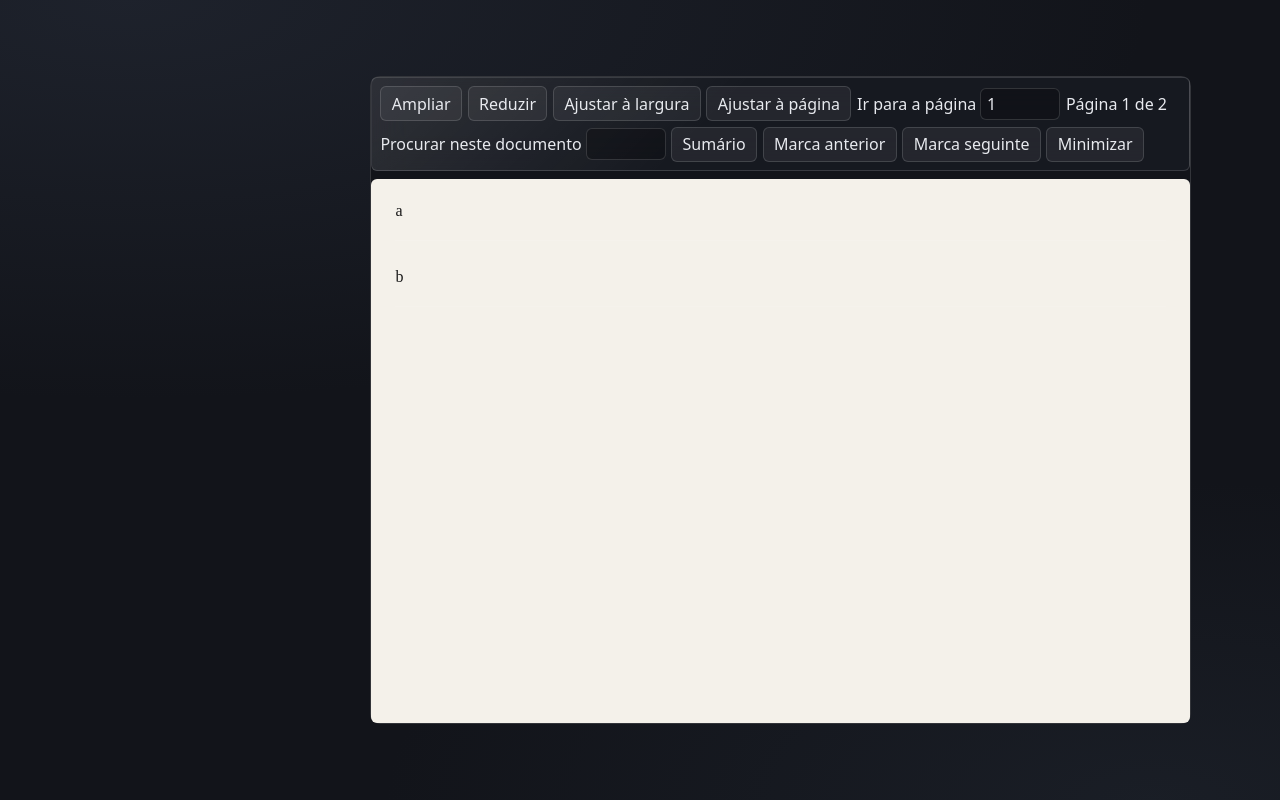
Test case: REG-LEI-005 › sumário navega para a secção
The width and height of the screenshot is (1280, 800).
Check: the dialog is shown, box [370,76,1191,724]
Click the button "Sumário" at (714, 144), box [671,127,757,162]
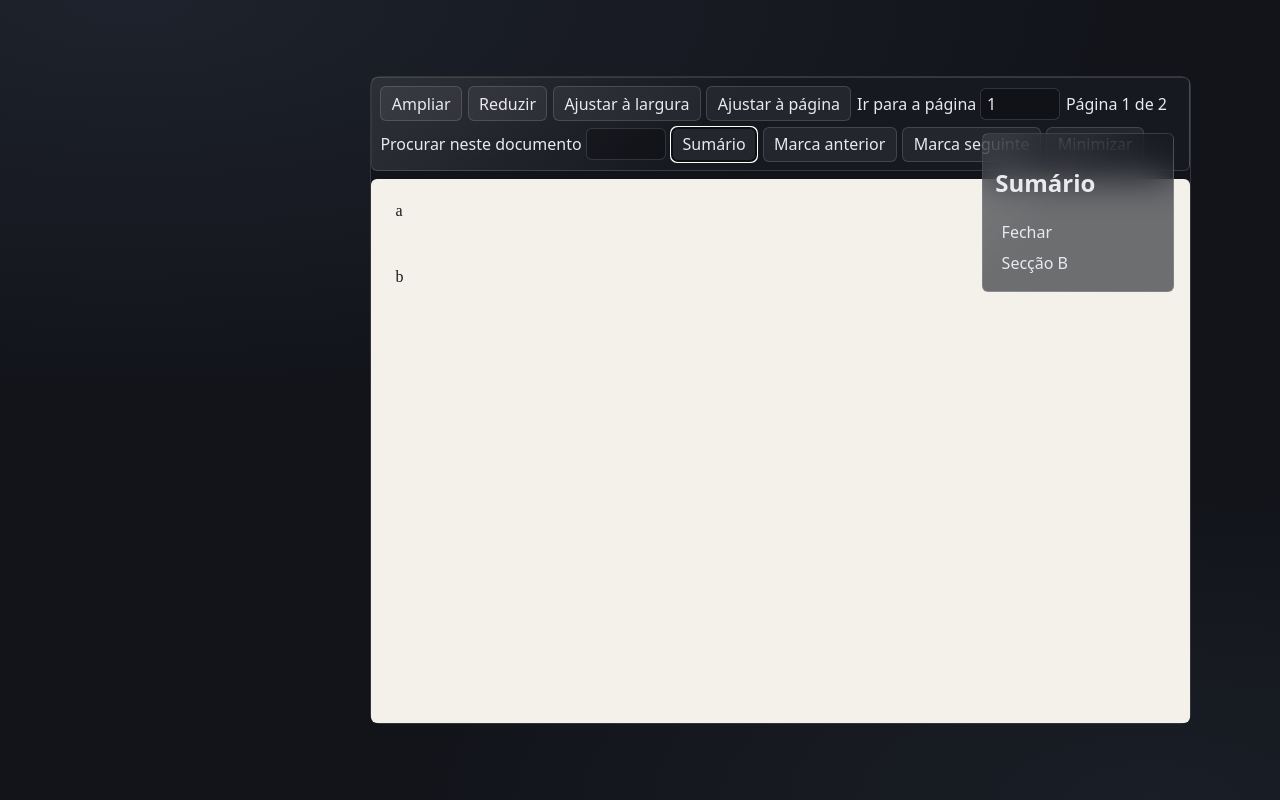
Click the button "Secção B" at (1078, 263), box [995,246,1161,279]
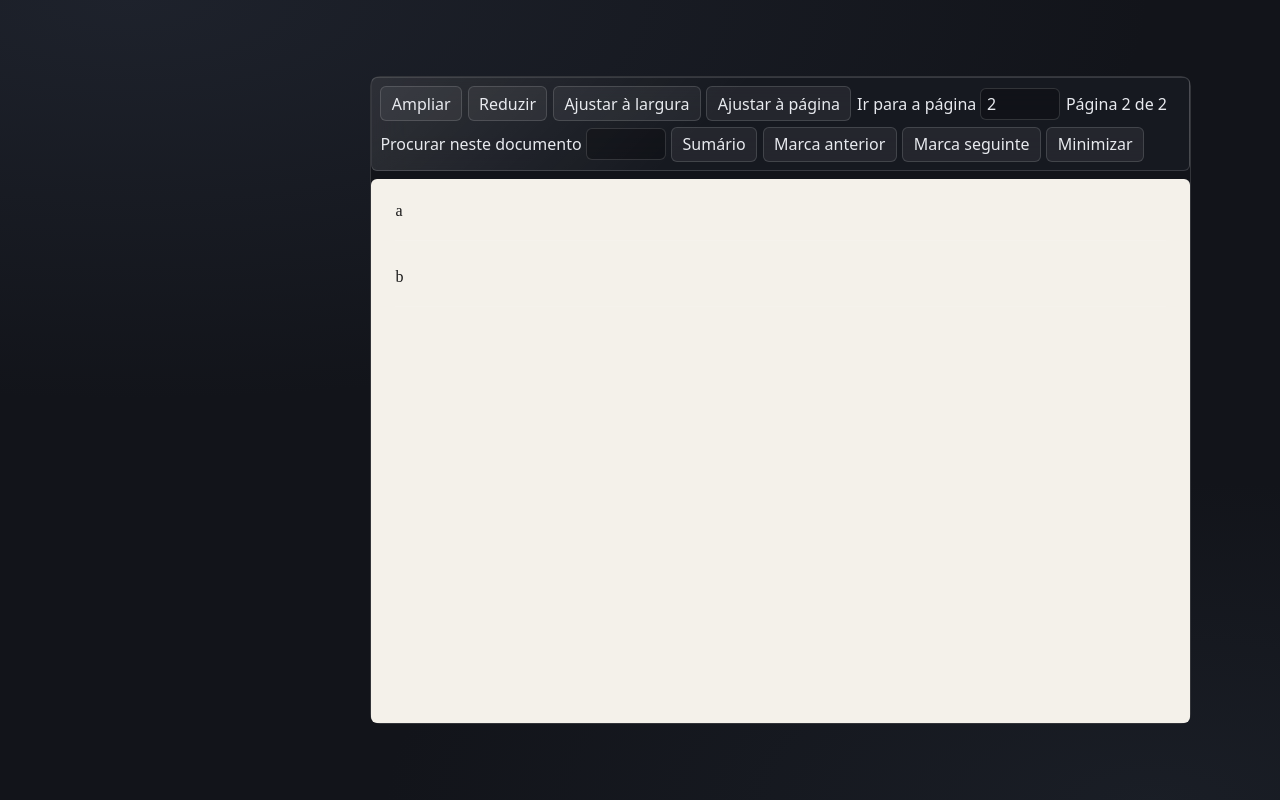
Check: the number field labelled "Ir para a página" holds "2", box [980,88,1060,120]
